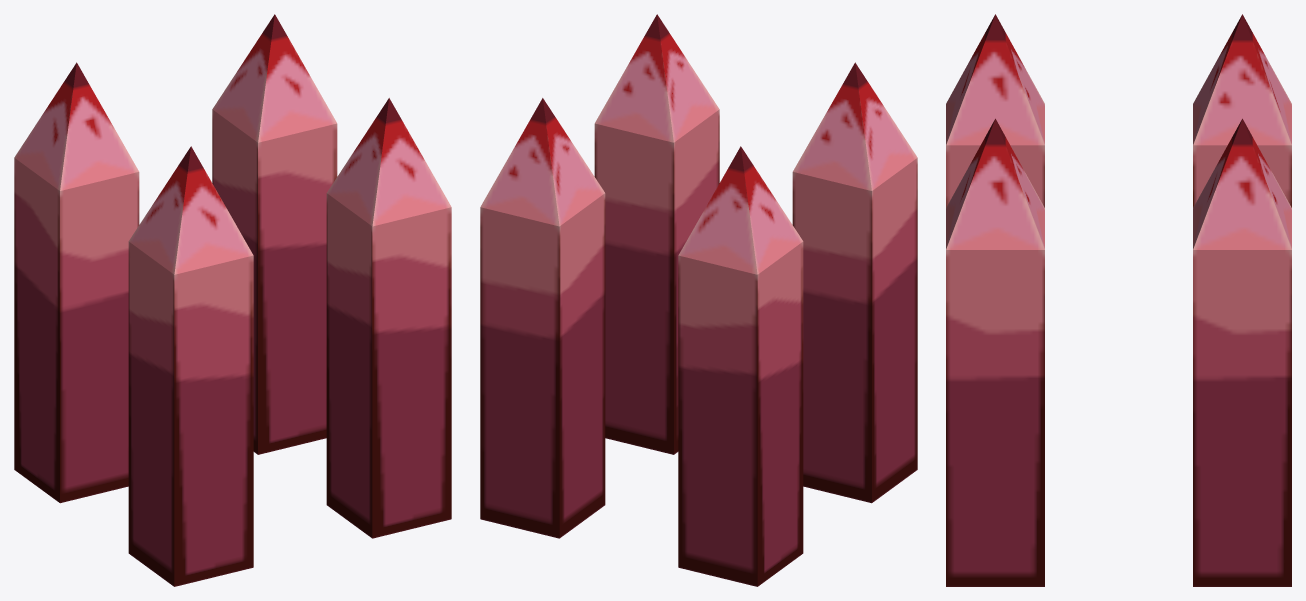
File: Trap_001.fbx
3 renders of one model, left to right at view 1: azimuth 30°, elevation 25°; view 2: azimuth 150°, elevation 25°; view 3: azimuth 270°, elevation 25°, orthographic. The views are drawn at different scales.
Visible parts, largest first — view 1: trap_spike, trap_spike.003, trap_spike.002, trap_spike.001; view 2: trap_spike.001, trap_spike.002, trap_spike.003, trap_spike; view 3: trap_spike.001, trap_spike, trap_spike.003, trap_spike.002.
Boxes of the visible parts, x1,y1,x2,y2 form: trap_spike: [326, 98, 451, 538]; trap_spike.003: [128, 146, 253, 586]; trap_spike.002: [14, 62, 139, 503]; trap_spike.001: [212, 14, 337, 454]; trap_spike.001: [480, 98, 605, 538]; trap_spike.002: [678, 146, 803, 586]; trap_spike.003: [792, 62, 917, 503]; trap_spike: [594, 14, 719, 454]; trap_spike.001: [1193, 118, 1291, 586]; trap_spike: [946, 118, 1044, 586]; trap_spike.003: [946, 14, 1044, 207]; trap_spike.002: [1193, 14, 1291, 207].
Size of the model in its own units: 1.4 by 2 by 1.4.
Materials: 1 (1 with a texture image).
